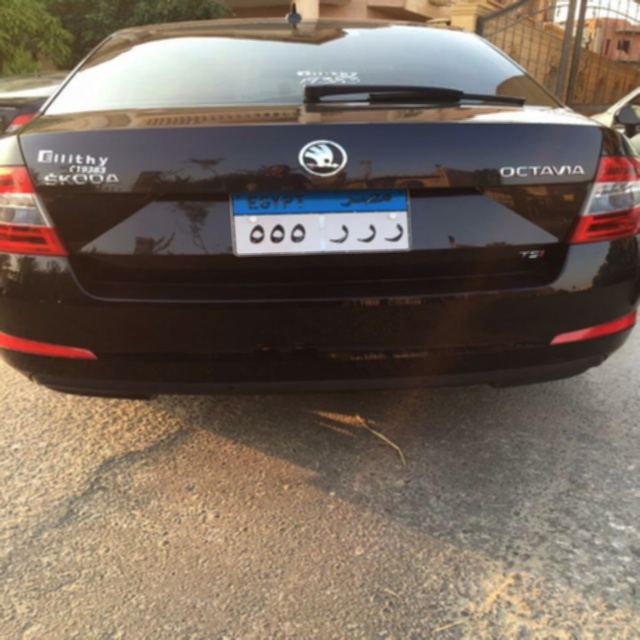License Plate: (228, 187, 415, 259)
